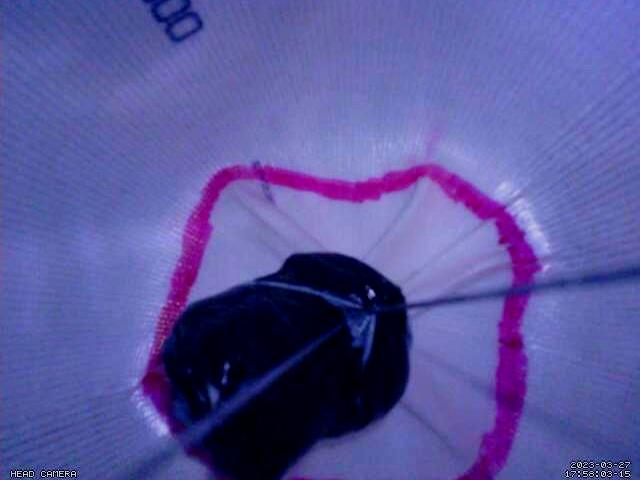red-circle: (142, 163, 542, 480)
